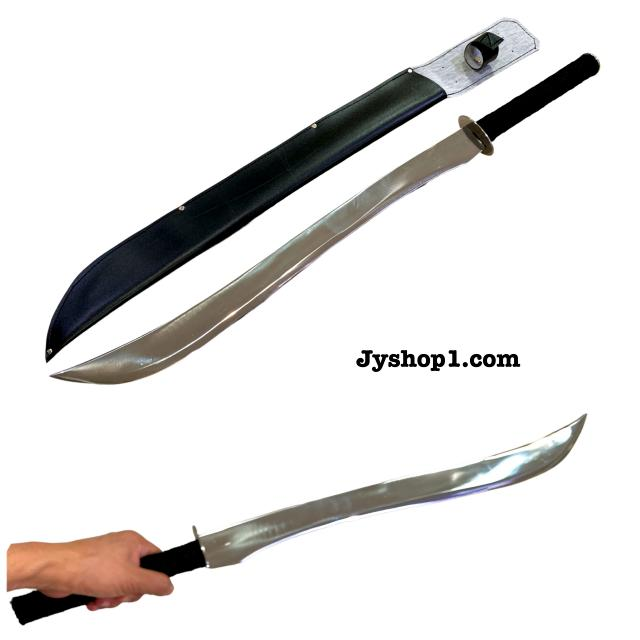long sword: (33, 16, 601, 392), (17, 412, 591, 628)
